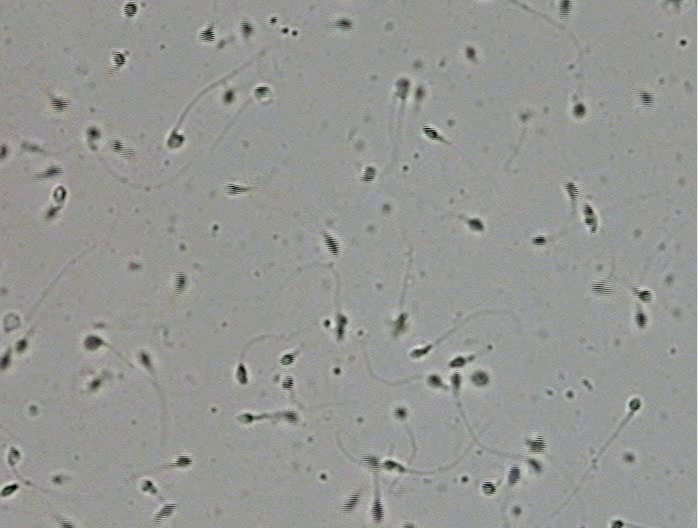S: (583, 203, 598, 233), (524, 435, 547, 454), (155, 503, 177, 522), (323, 234, 340, 257), (341, 493, 360, 512), (335, 314, 348, 340), (370, 499, 384, 523), (394, 312, 409, 334), (395, 78, 410, 99), (50, 97, 70, 112), (592, 281, 612, 296), (167, 132, 185, 148), (471, 371, 489, 387), (422, 125, 441, 140), (564, 181, 579, 200), (360, 455, 380, 468), (175, 271, 187, 292), (236, 364, 248, 385), (7, 447, 21, 465), (410, 346, 431, 358), (200, 27, 216, 42), (508, 466, 520, 486), (527, 458, 542, 474), (361, 166, 376, 182), (112, 51, 126, 68), (175, 455, 193, 468), (123, 2, 138, 17), (468, 218, 484, 232), (639, 91, 653, 107), (240, 20, 253, 37), (1, 483, 18, 496), (53, 184, 66, 201), (43, 166, 63, 177), (84, 336, 102, 348), (450, 372, 462, 390), (427, 374, 442, 388), (279, 353, 295, 366), (573, 102, 586, 118), (449, 356, 466, 368), (559, 1, 571, 18), (636, 290, 653, 302), (87, 126, 101, 140), (482, 481, 496, 495), (283, 411, 299, 423), (336, 19, 352, 31), (635, 312, 647, 328), (225, 184, 244, 194), (14, 339, 28, 352), (282, 375, 294, 390), (139, 351, 150, 367), (111, 140, 125, 152), (88, 378, 102, 390), (255, 86, 270, 97), (532, 235, 547, 246), (414, 86, 425, 101), (238, 413, 254, 423), (395, 407, 407, 420), (629, 398, 641, 411), (45, 207, 59, 218), (223, 89, 233, 104), (1, 354, 10, 370), (465, 46, 476, 59), (60, 519, 75, 528), (383, 460, 396, 470), (142, 480, 152, 491), (611, 520, 624, 528), (1, 144, 8, 158), (402, 524, 413, 528)
